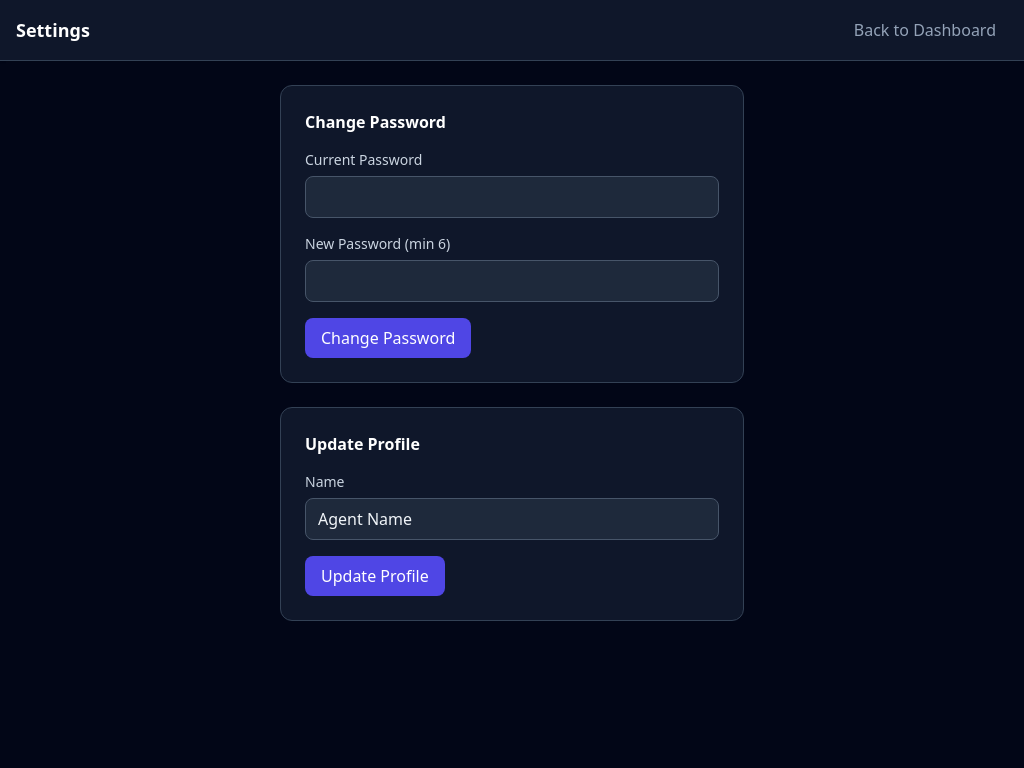
Test: Settings › shows validation error when new password is too short
Expected: the heading "Settings" is shown, top-left (16, 16), bottom-right (90, 44)
Type "current" into the password field labelled "Current Password".
click(512, 197); type("current")  # box top-left (305, 176), bottom-right (719, 218)
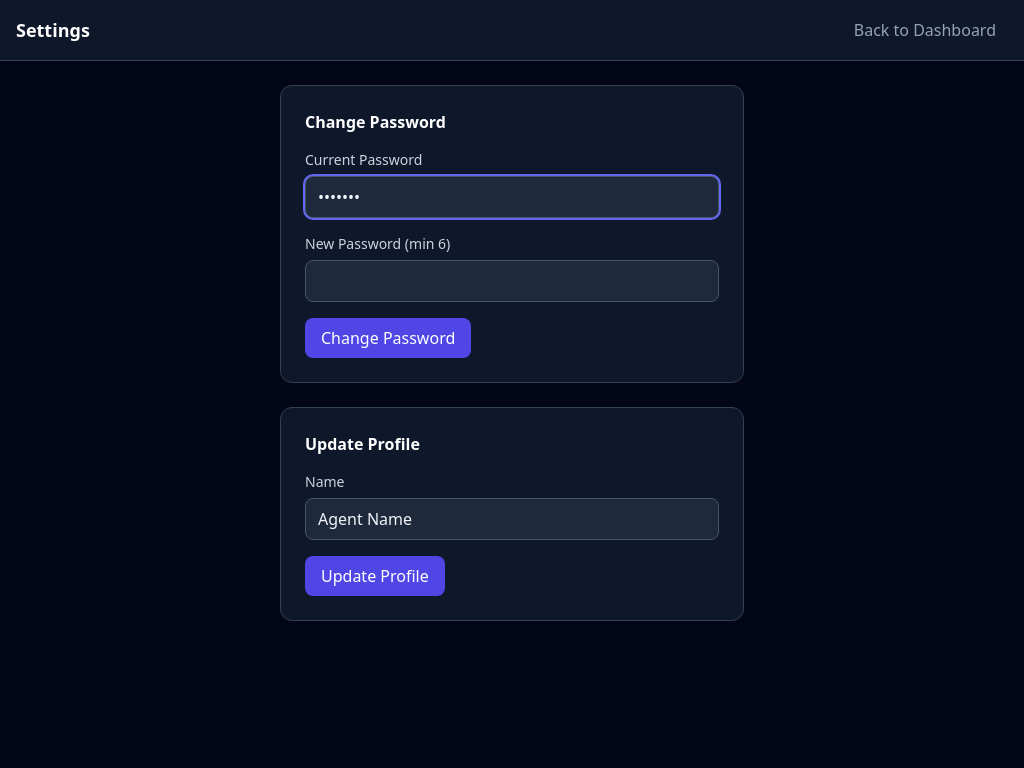
Type "12345" into the password field labelled "New Password (min 6)".
click(512, 281); type("12345")  # box top-left (305, 260), bottom-right (719, 302)
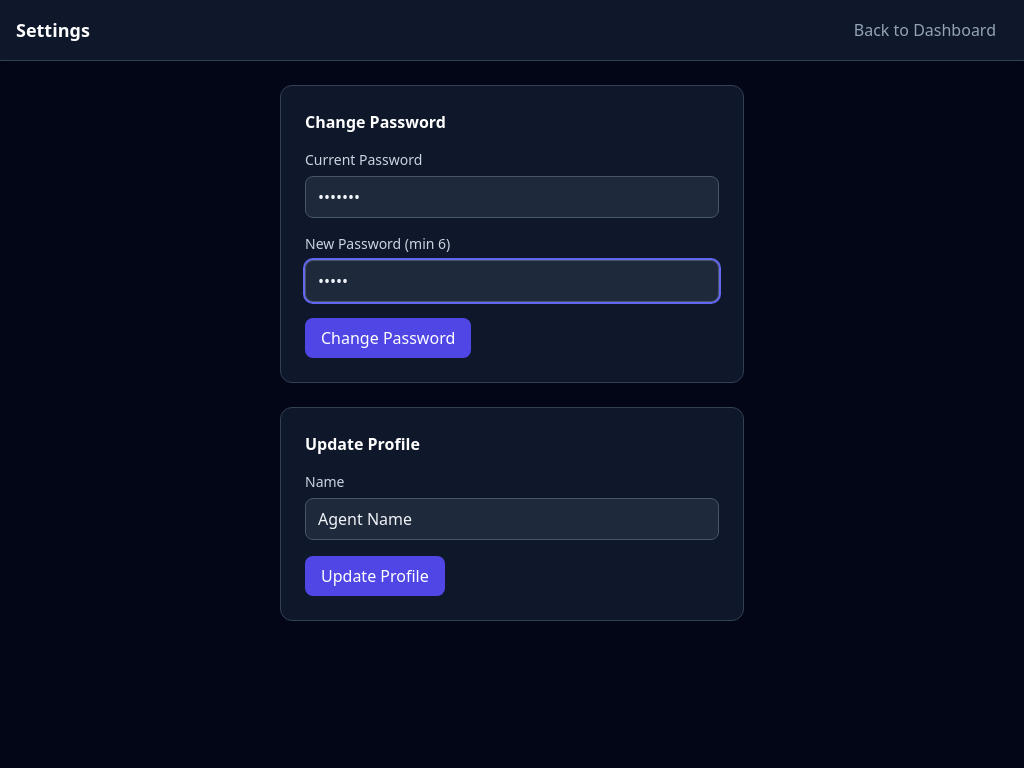
Click the button "Change Password".
click(388, 338)  # box top-left (305, 318), bottom-right (471, 358)
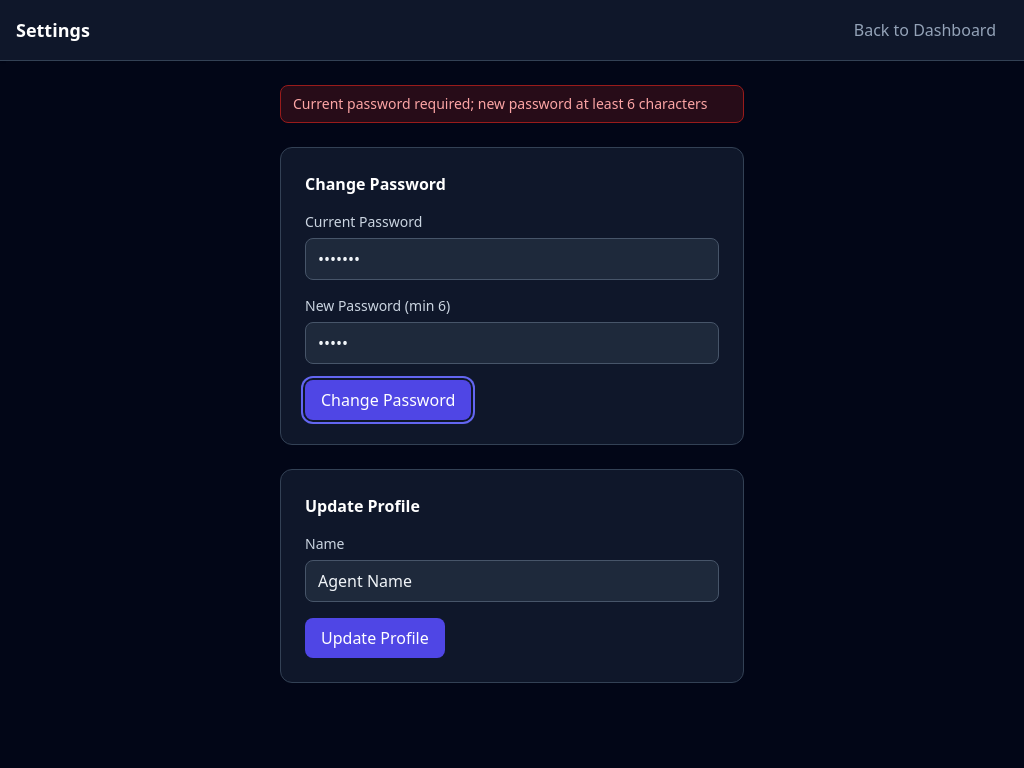
Result: the text "at least 6 characters" is shown at top-left (293, 94), bottom-right (708, 113)
